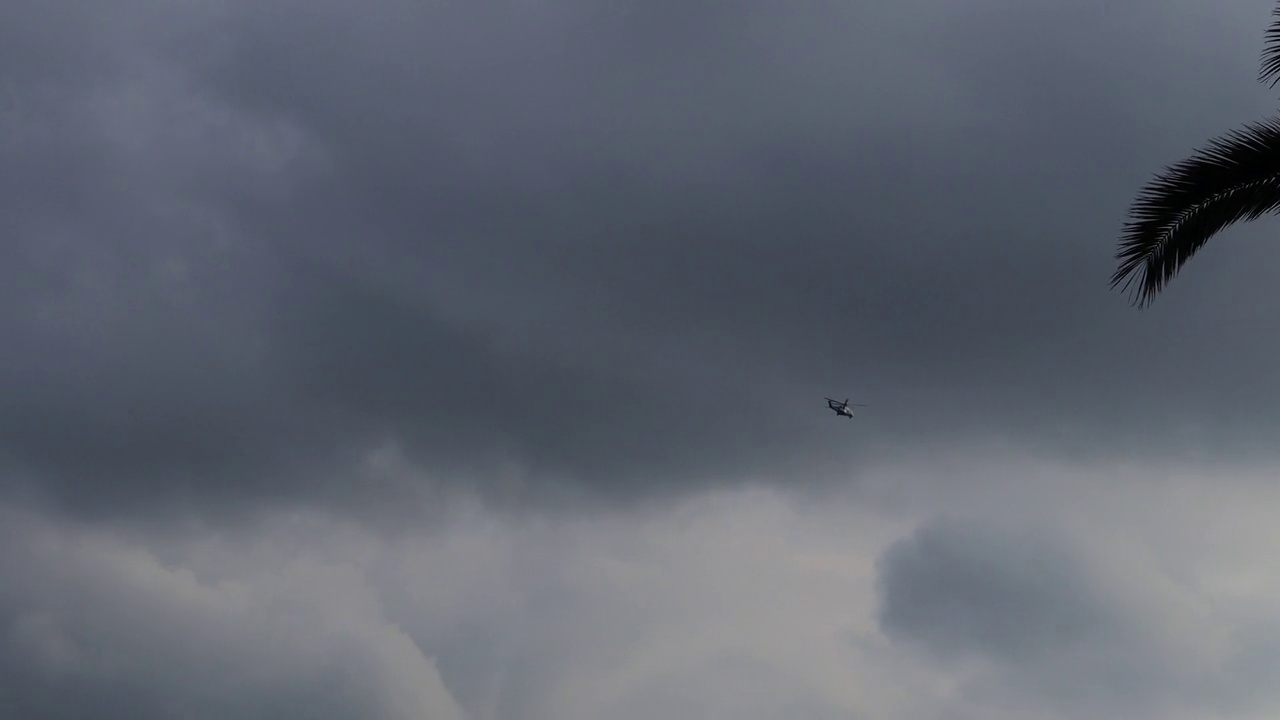heli: (823, 395, 865, 419)
